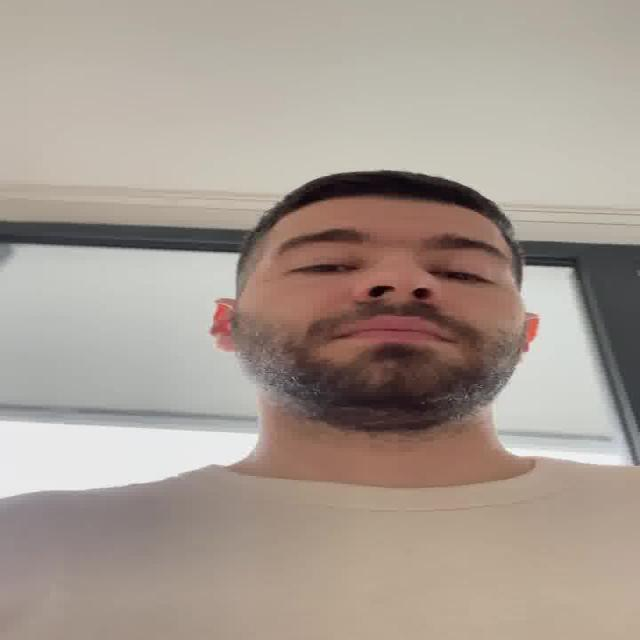earlobe: (214, 339, 241, 353), (514, 347, 530, 365)
eye: (433, 267, 500, 286), (286, 260, 358, 276)
nose: (357, 291, 441, 316)
wholeear: (210, 298, 242, 352), (517, 313, 541, 363)
